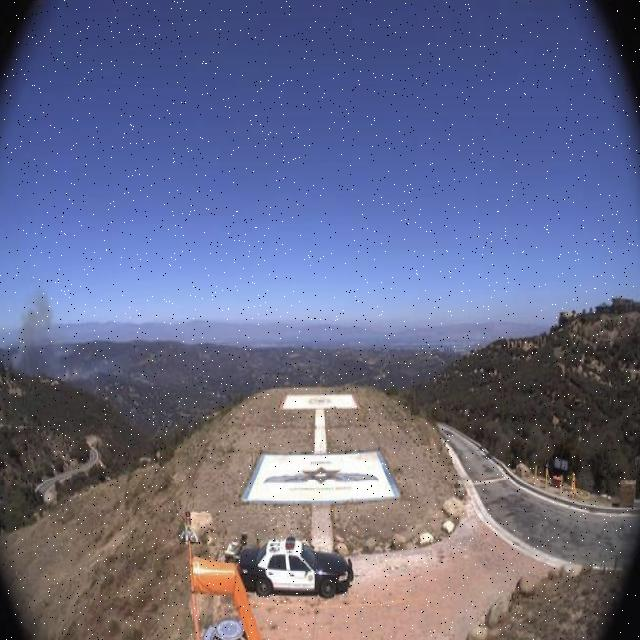smoke: (7, 285, 83, 391)
